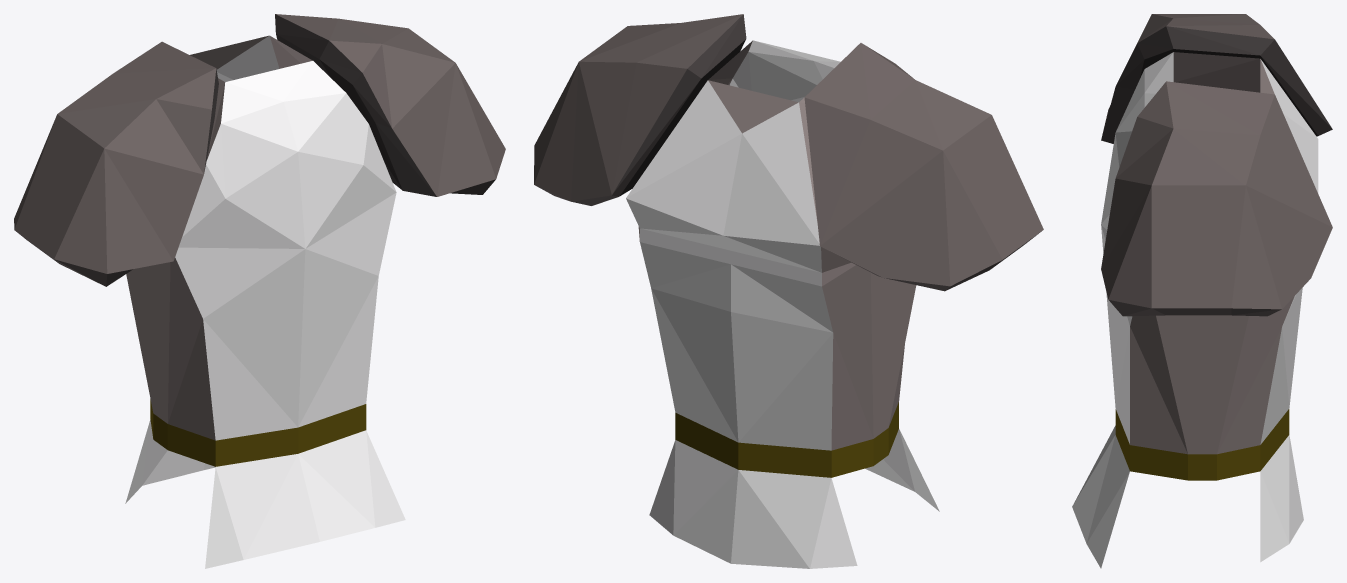
The model's file is npc_world_suit_of_armour_1.obj.
3 renders of one model, left to right at view 1: azimuth 30°, elevation 25°; view 2: azimuth 150°, elevation 25°; view 3: azimuth 270°, elevation 25°, orthographic. The views are drawn at different scales.
Bounding box in the file's own units: 0.5625 × 0.5547 × 0.2812.
